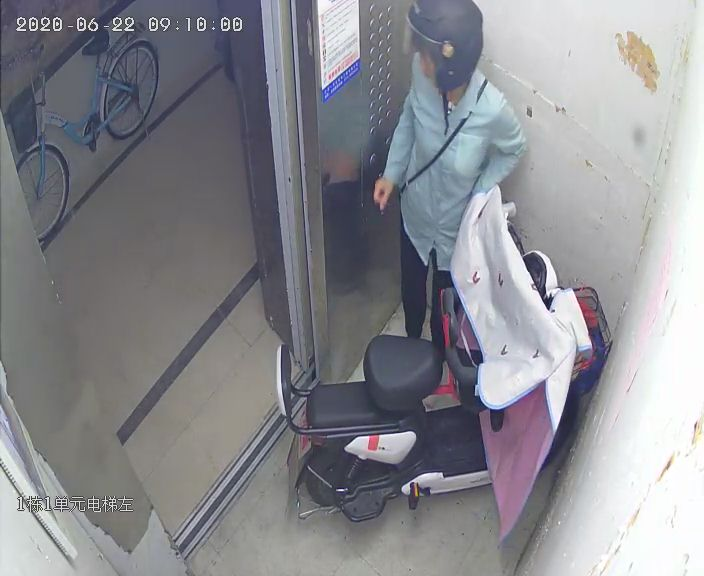Electric-bicycle: (275, 220, 611, 523)
